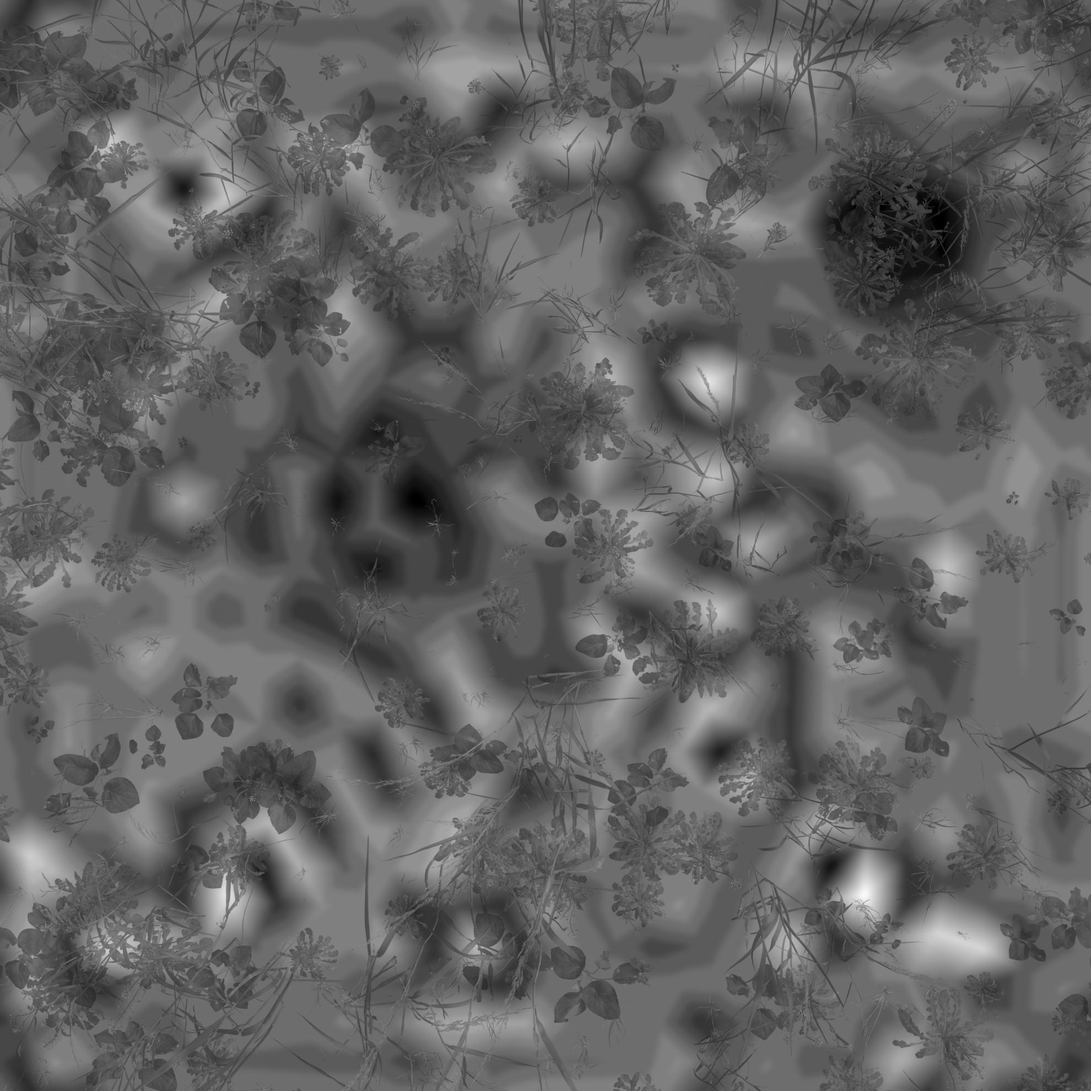landmine: (308, 426, 471, 594), (834, 170, 959, 284)
